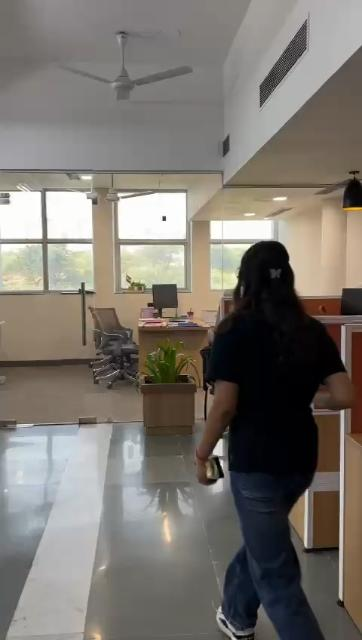floor: (3, 364, 91, 640), (98, 438, 198, 640)
moving-obj: (205, 218, 357, 640)
object: (132, 347, 196, 435), (92, 294, 138, 396), (142, 269, 190, 329)
wall: (0, 298, 80, 359), (293, 200, 353, 274), (88, 202, 122, 304), (183, 195, 207, 311)
